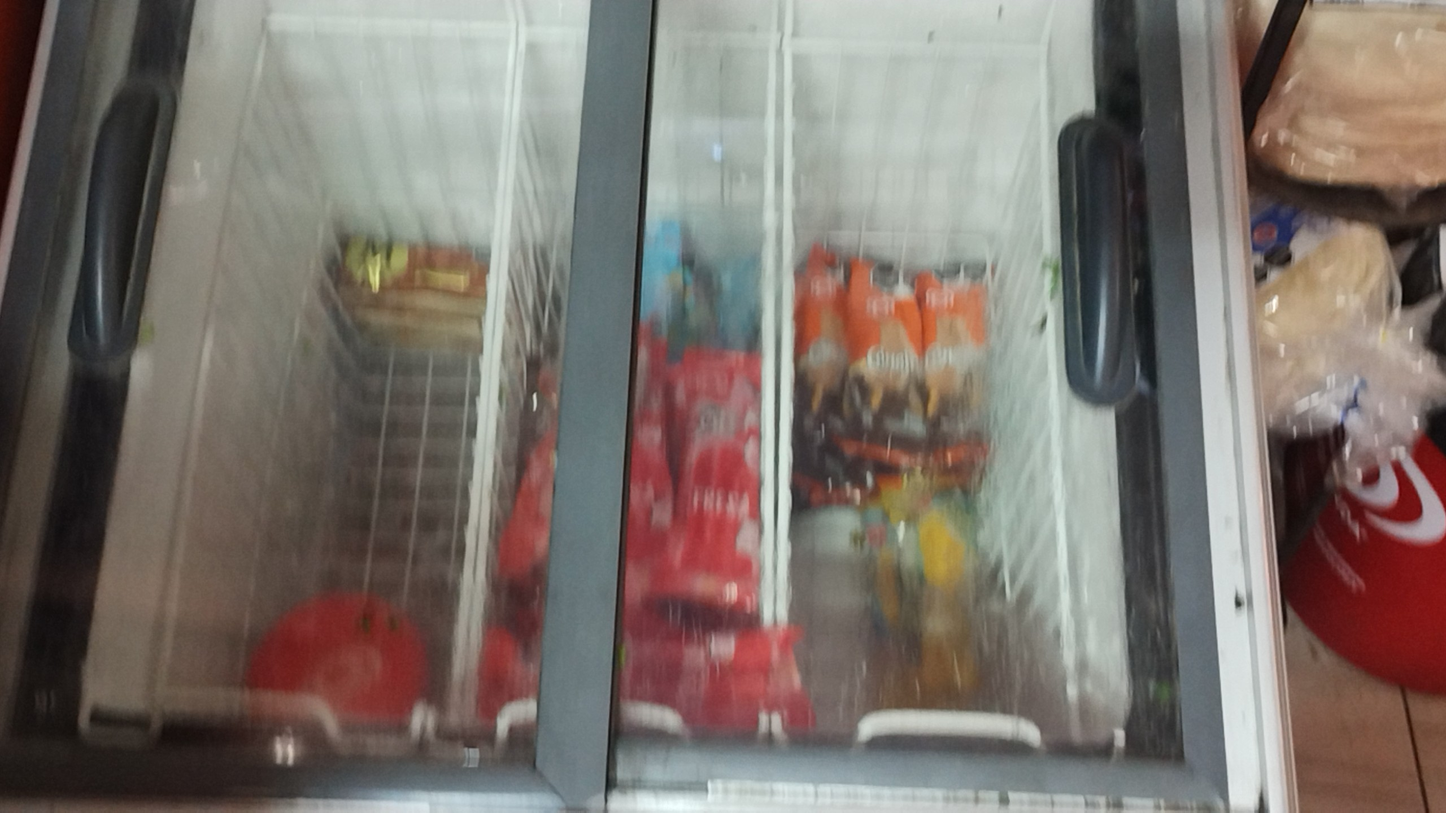rejilla: (154, 35, 265, 694), (447, 38, 514, 723), (463, 39, 525, 716), (1043, 59, 1076, 702), (780, 56, 791, 619), (767, 51, 775, 624), (268, 19, 512, 31), (787, 42, 1042, 53), (668, 36, 774, 41), (522, 30, 586, 33)
